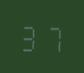seven: (41, 19, 62, 53)
three: (19, 19, 40, 52)
